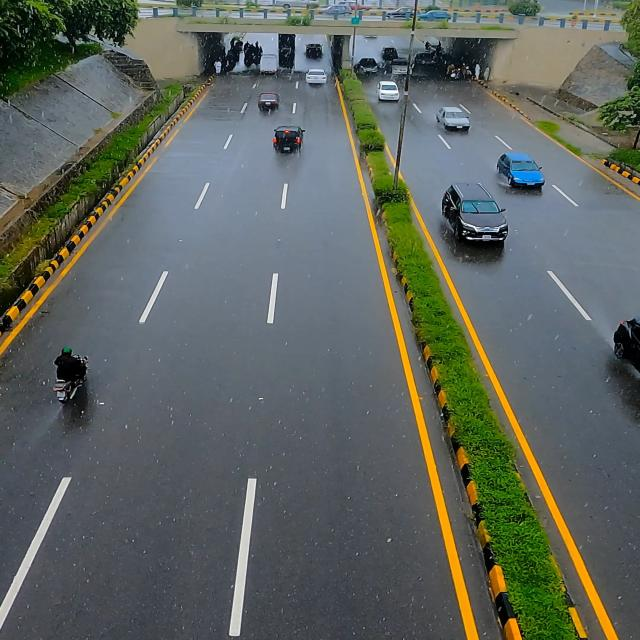Car: (442, 181, 512, 251), (500, 148, 550, 200), (437, 104, 474, 138), (274, 121, 308, 157), (256, 88, 284, 115)
